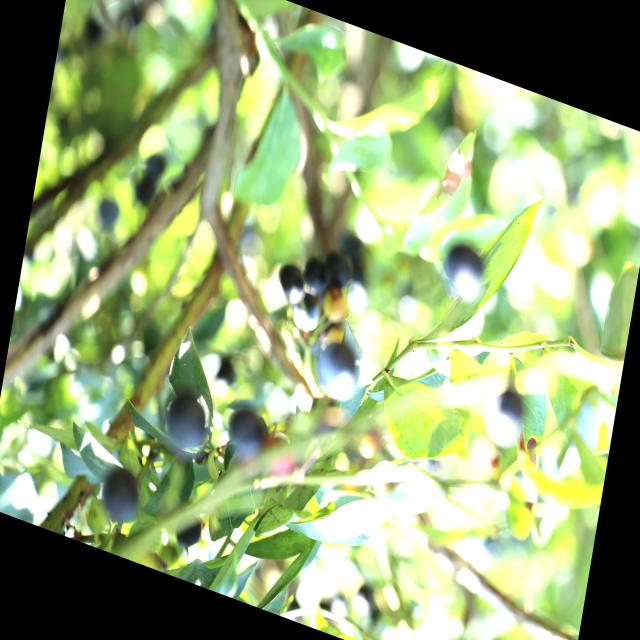blueberry: (311, 332, 359, 402), (221, 402, 271, 465), (100, 467, 144, 532), (162, 394, 208, 451), (274, 258, 309, 307), (289, 292, 323, 337), (301, 258, 329, 297), (328, 251, 352, 287)
